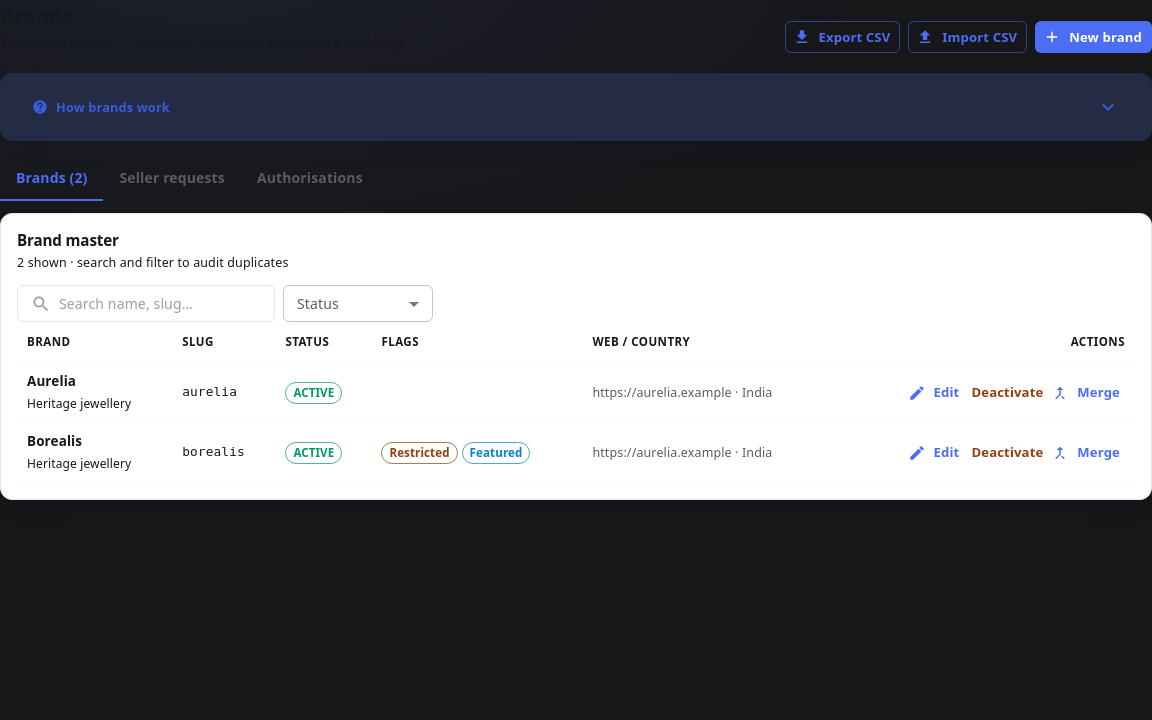
BrandsView (admin) › opens the create dialog from New brand
Click the button "New brand". click: x=1094, y=38
box: [1035, 22, 1151, 54]
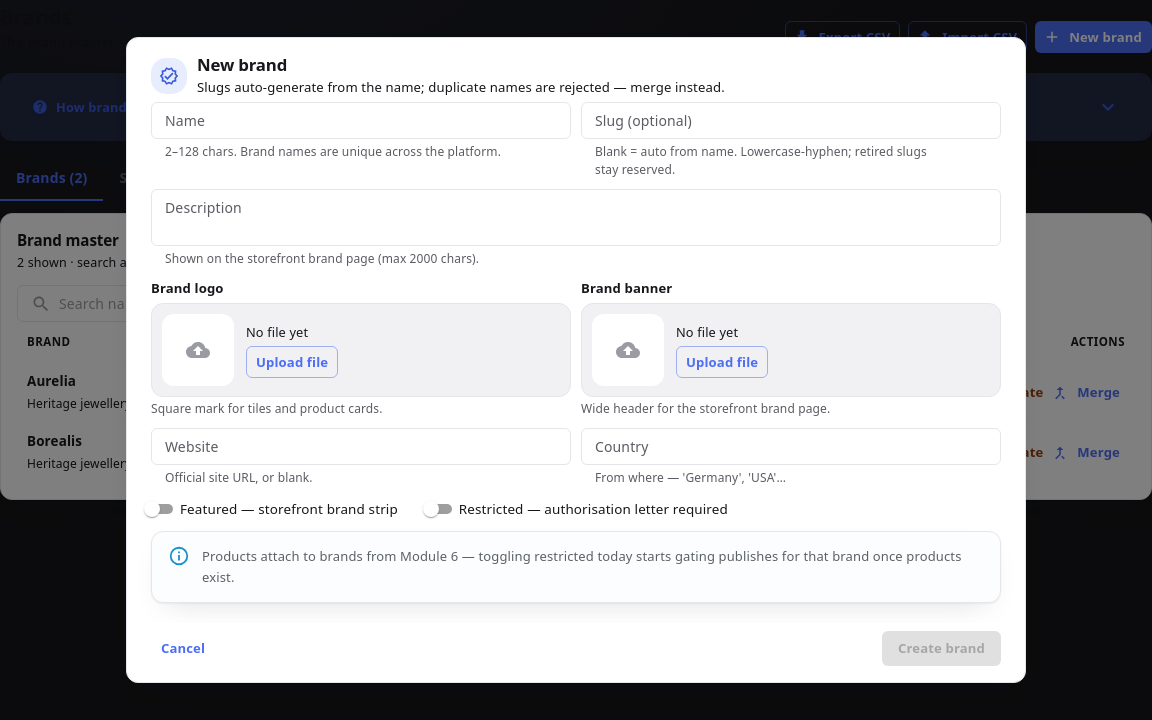
Result: the text "Slugs auto-generate from the name; duplicate names are rejected — merge instead." is shown at [197, 77, 725, 98]
